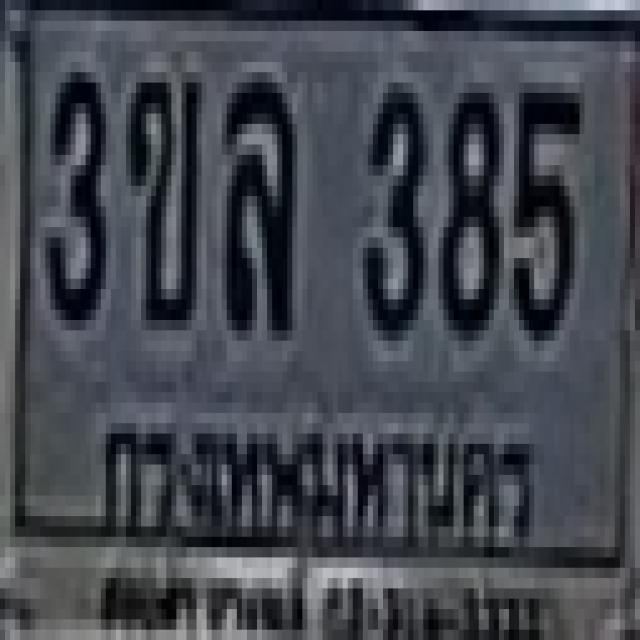3: (40, 62, 101, 320), (360, 78, 421, 325)
5: (509, 83, 580, 330)
8: (438, 83, 499, 330)
A02: (124, 72, 199, 320)
A36: (222, 67, 292, 325)
BKK: (90, 393, 541, 575)
